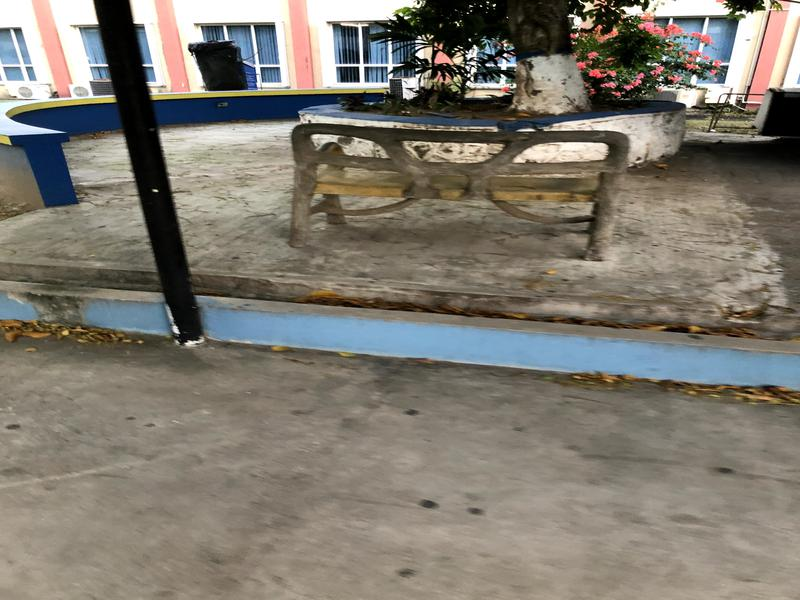18.0050864_-76.7496363_bench: (272, 108, 662, 270)
